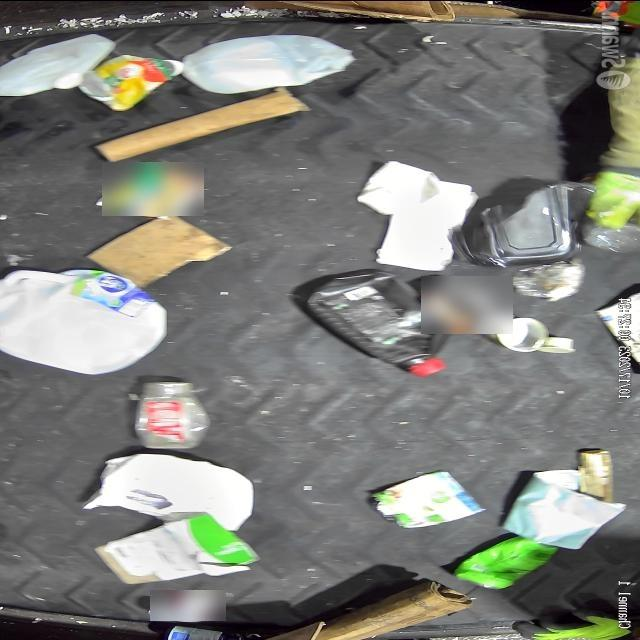milk_jug: (0, 268, 172, 374), (104, 450, 254, 530), (184, 34, 356, 92), (1, 32, 118, 94)
non_white_jug: (310, 270, 448, 376)
